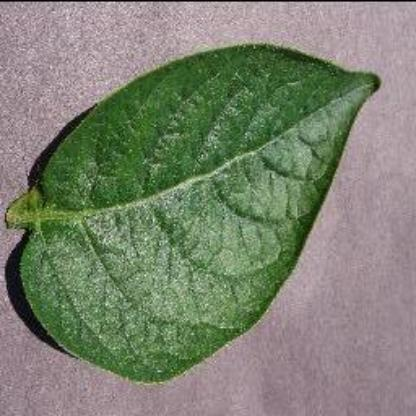Healthy-plant: (9, 40, 380, 384)
